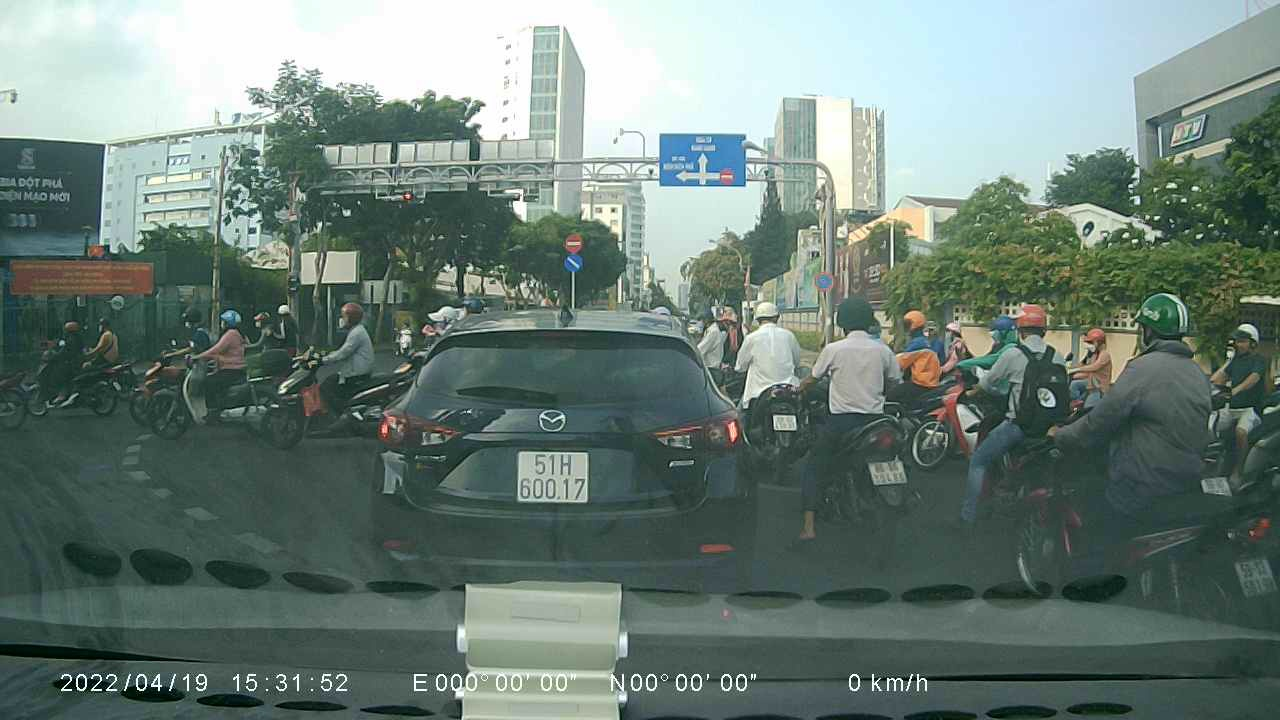Cam di nguoc chieu: (564, 234, 584, 253)
Cam do xe: (812, 269, 833, 290)
Huong di phai re phai: (563, 252, 582, 270)
